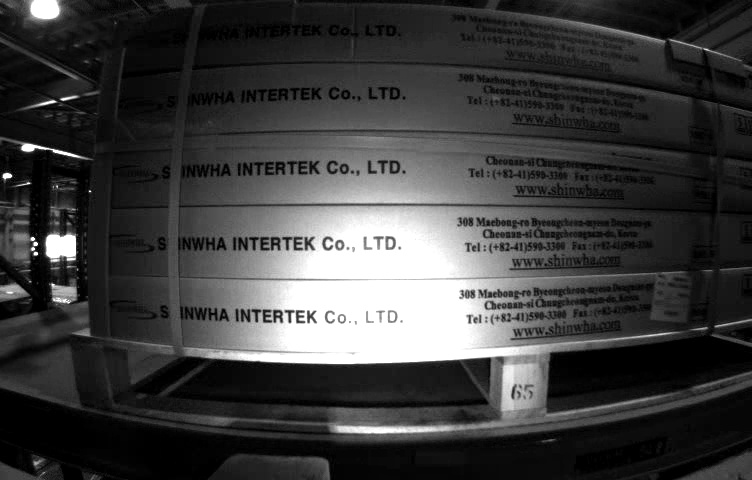True Barcode: (654, 273, 690, 328)
